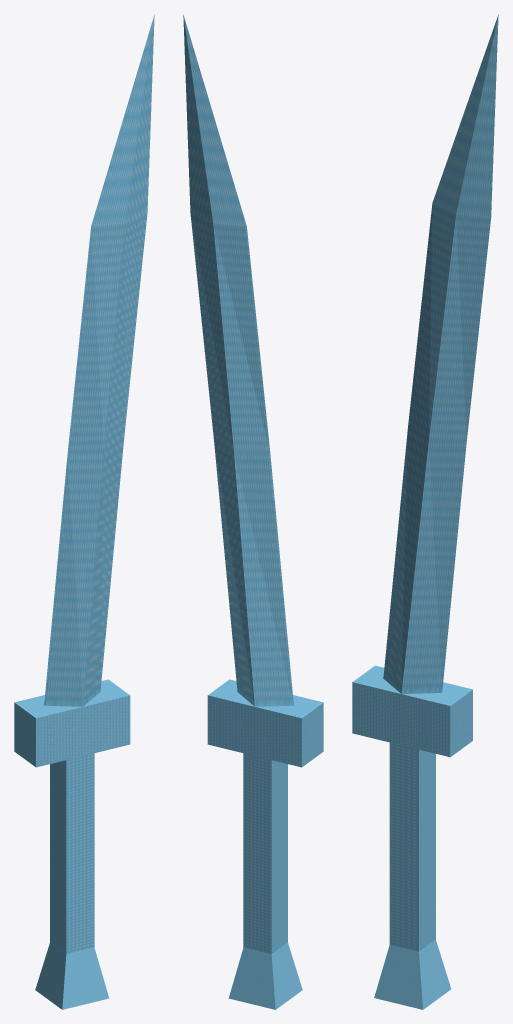
File: selenite_blade_lvl1.obj
3 renders of one model, left to right at view 1: azimuth 30°, elevation 25°; view 2: azimuth 150°, elevation 25°; view 3: azimuth 330°, elevation 25°, orthographic. The views are drawn at different scales.
Size of the model in its own units: 0.55 by 3.9 by 0.2.
2 materials, 2 textured.
